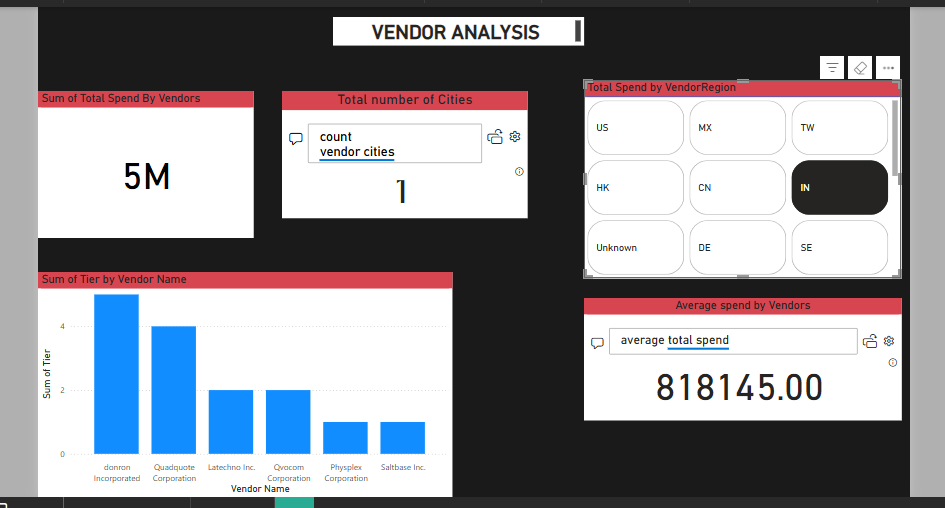

The page's visual inventory and layout, read from the dashboard file:
{"tool":"powerbi","page":{"name":"Vendor Analysis","canvas":[1280,720],"ordinal":0},"visuals":[{"type":"card","title":"Sum of Total Spend By Vendors","fields":{"Values":["Sum(Sheet1.Total Spend)"]},"box":[0,123.8,316.8,216],"z":0},{"type":"columnChart","fields":{"Y":["Sum(Sheet1.Tier)"],"Category":["Sheet1.Vendor Name"]},"box":[0,388.8,609.1,331.2],"z":1000},{"type":"advancedSlicerVisual","title":"Total Spend by VendorRegion","fields":{"Values":["Sheet1.Vendor Country/Region"]},"box":[802.1,106.6,466.6,292.3],"z":2000},{"type":"textbox","box":[433.4,14.4,368.6,41.8],"z":3000},{"type":"qnaVisual","title":"Average spend by Vendors","box":[802.1,427.7,466.6,180],"z":4000},{"type":"qnaVisual","title":"Total number of Cities","box":[358.6,123.8,361.4,187.2],"z":4001}]}

Visuals, with their boxes on the page's 1280x720 design canvas (x1, y1, x2, y2). These are canvas units, not pixel positions in the 945x508 screenshot, which may show the page scaled, cropped or inside an application window:
"Sum of Total Spend By Vendors" card: l=0, t=124, r=317, b=340
columnChart - Sum(Sheet1.Tier) x Sheet1.Vendor Name: l=0, t=389, r=609, b=720
"Total Spend by VendorRegion" advancedSlicerVisual: l=802, t=107, r=1269, b=399
textbox: l=433, t=14, r=802, b=56
"Average spend by Vendors" qnaVisual: l=802, t=428, r=1269, b=608
"Total number of Cities" qnaVisual: l=359, t=124, r=720, b=311
